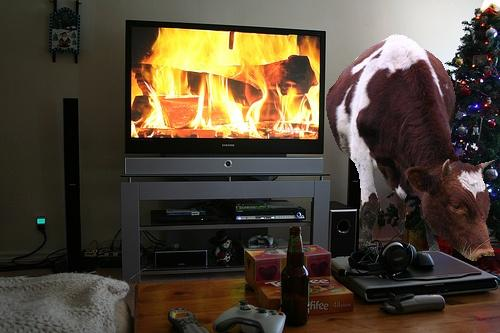tampered: (327, 35, 495, 261)
